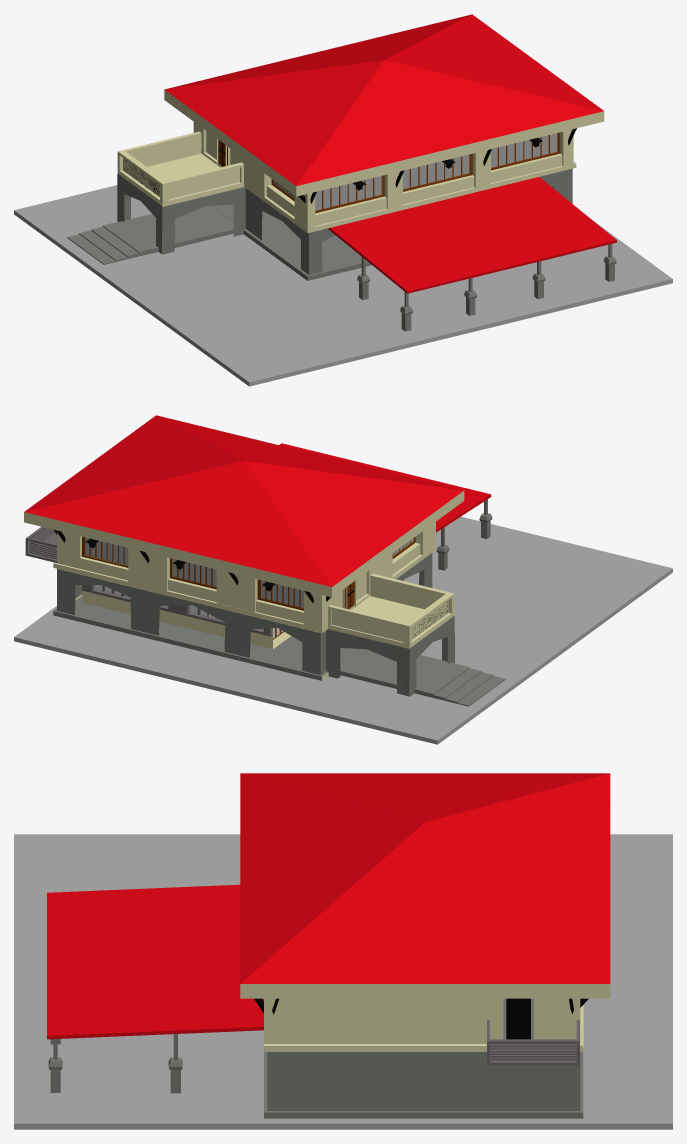
The model's file is mila's.fbx.
3 views of the same model, one above another, from view 1: azimuth 30°, elevation 25°; view 2: azimuth 150°, elevation 25°; view 3: azimuth 270°, elevation 25° (orthographic). The views are drawn at different scales.
Parts seen in each view (by area): view 1: building_001.001; view 2: building_001.001; view 3: building_001.001.
Part boxes in pixels (x1,y1,x2,y2): building_001.001: (14,14,672,386); building_001.001: (14,415,672,744); building_001.001: (14,773,672,1129).
Bounding box in the file's own units: 3362 × 1085 × 3078.
